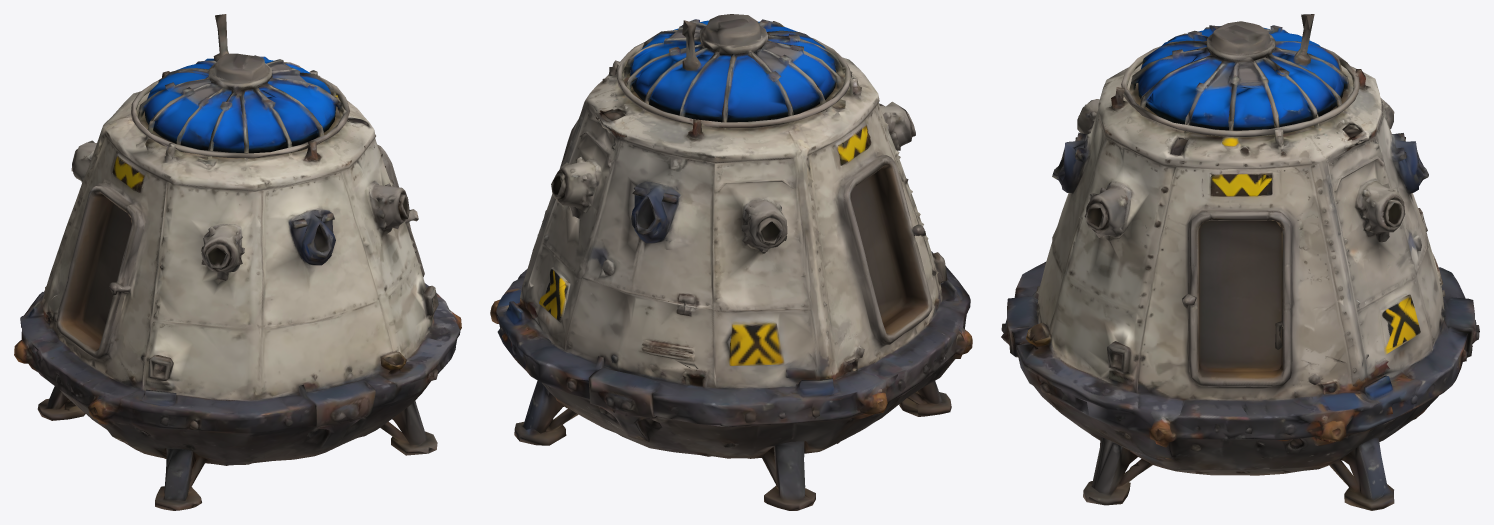
File: kapsul.glb
3 views of the same model, side by side, from view 1: azimuth 30°, elevation 25°; view 2: azimuth 150°, elevation 25°; view 3: azimuth 270°, elevation 25° (orthographic). The views are drawn at different scales.
Visible parts, largest first — view 1: tripo_node_c249cb81-24d3-4d6b-8916-3334153ec6ee; view 2: tripo_node_c249cb81-24d3-4d6b-8916-3334153ec6ee; view 3: tripo_node_c249cb81-24d3-4d6b-8916-3334153ec6ee.
Part boxes in pixels (left/top/right/bottom): tripo_node_c249cb81-24d3-4d6b-8916-3334153ec6ee: left=14, top=14, right=461, bottom=510; tripo_node_c249cb81-24d3-4d6b-8916-3334153ec6ee: left=490, top=14, right=972, bottom=510; tripo_node_c249cb81-24d3-4d6b-8916-3334153ec6ee: left=1001, top=14, right=1479, bottom=510.
Size of the model in its own units: 2.79 by 2.8 by 2.84.
Materials: 1 (1 with a texture image).
